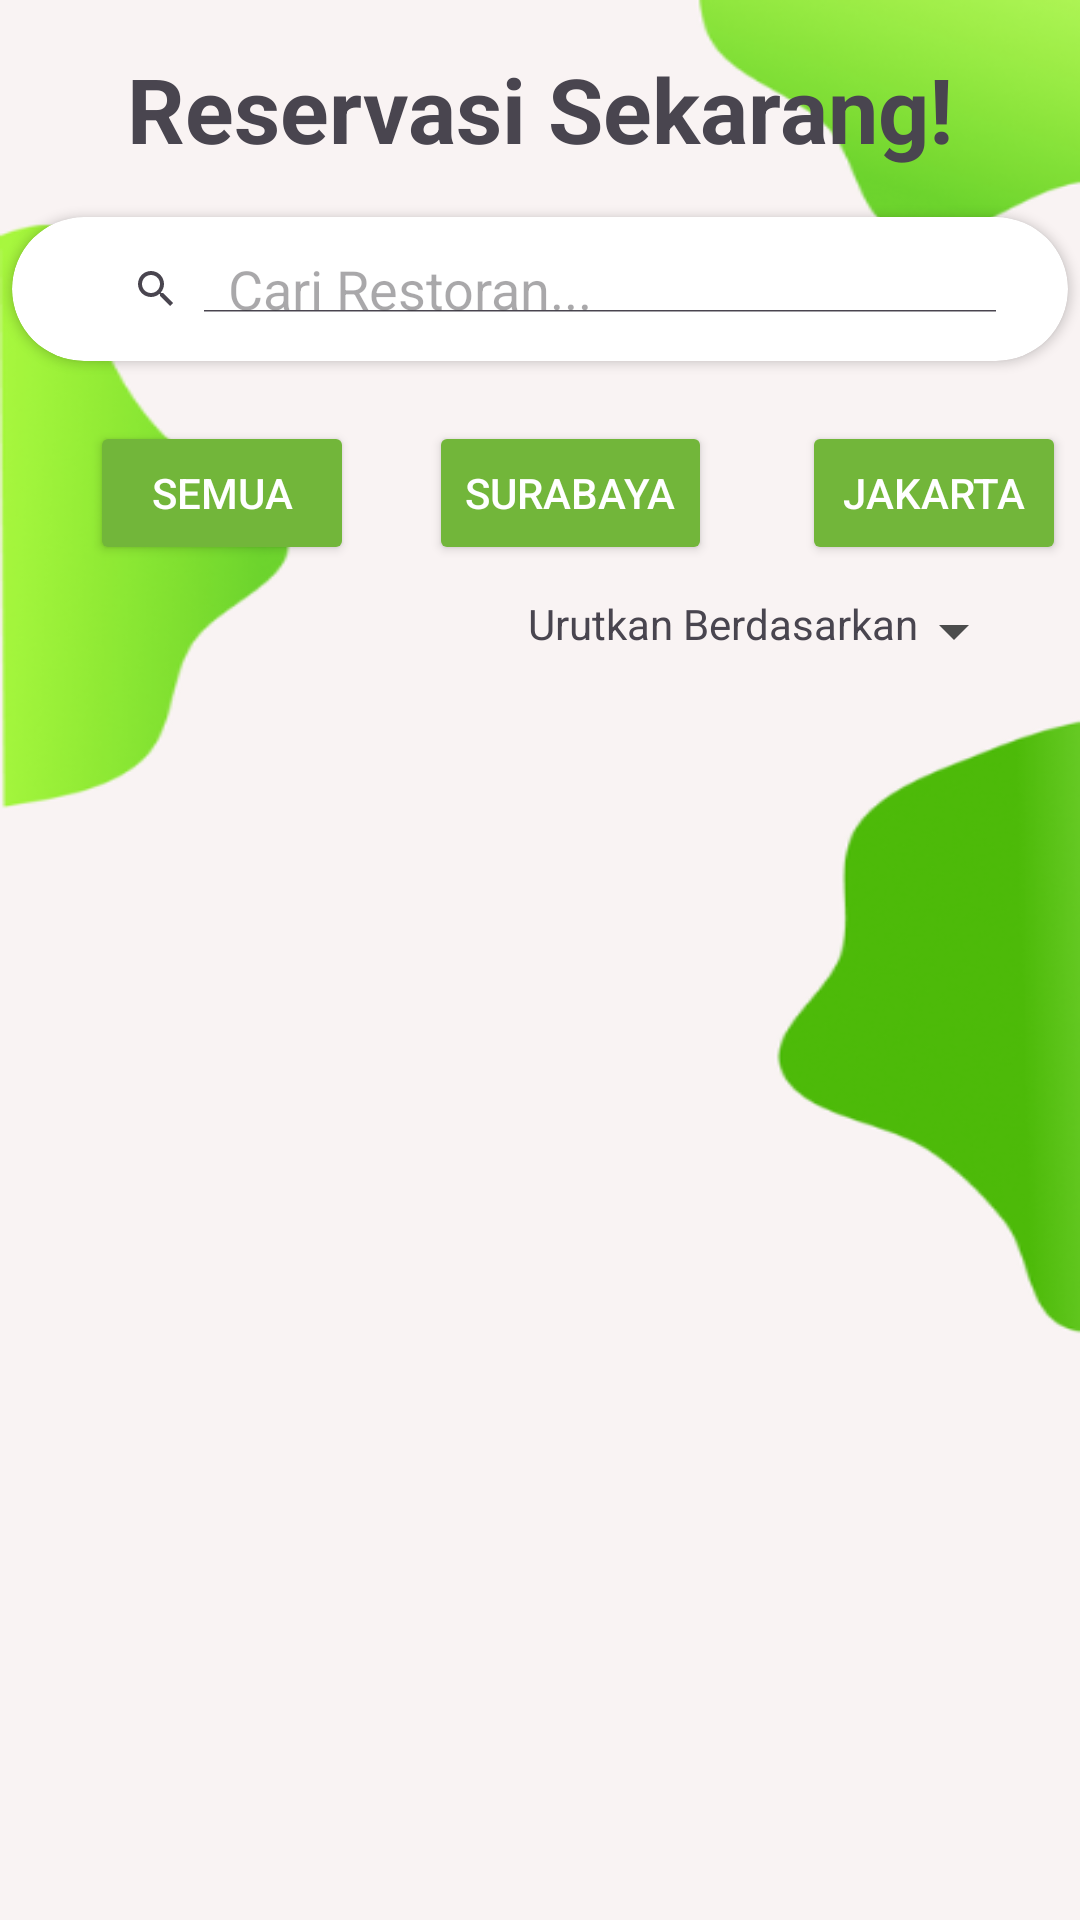

Icon click points for this 1080x1920 phone screenshot, format [x,y]:
arrow drop down: [954,632]
